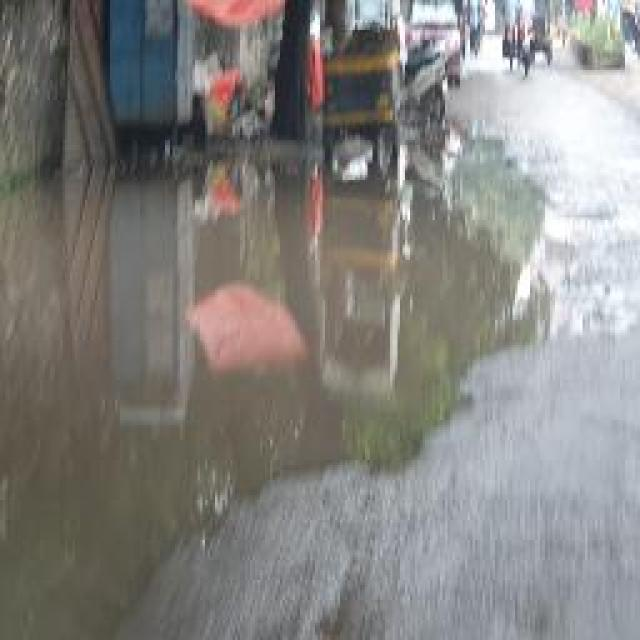puddle: (1, 140, 545, 513)
